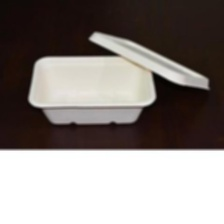plastic_box: (22, 27, 216, 133)
